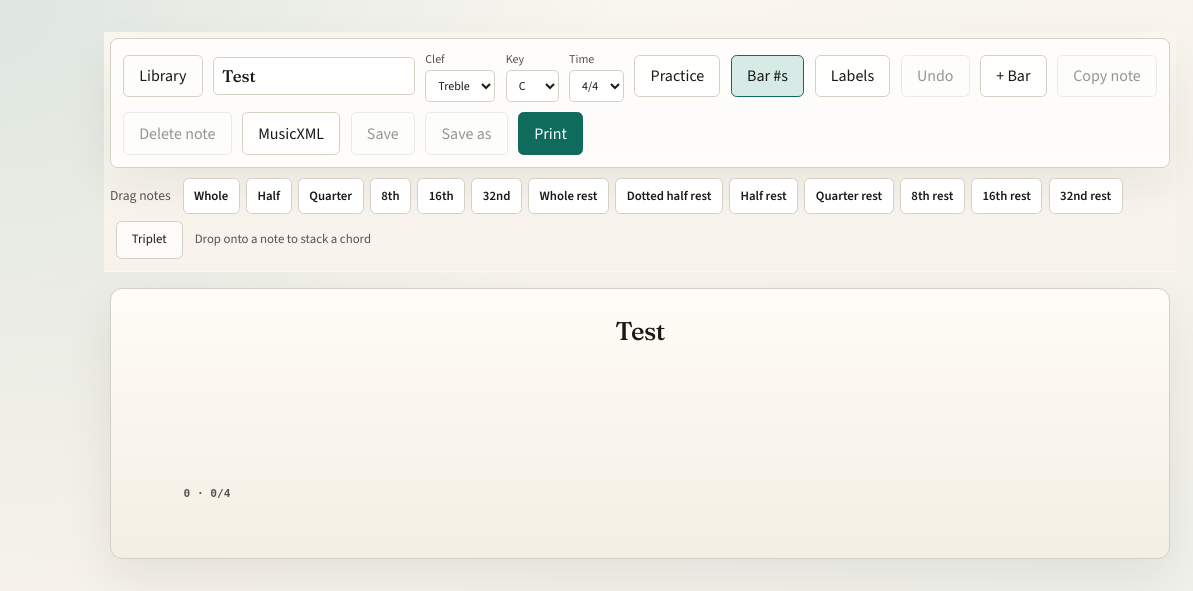
Editor practice + dirty state › undo › undoes a run of title keystrokes as one step
Replace the text in the field named "Score title" with "Te". click: (314, 76)
box: x1=213 y1=57 x2=415 y2=95
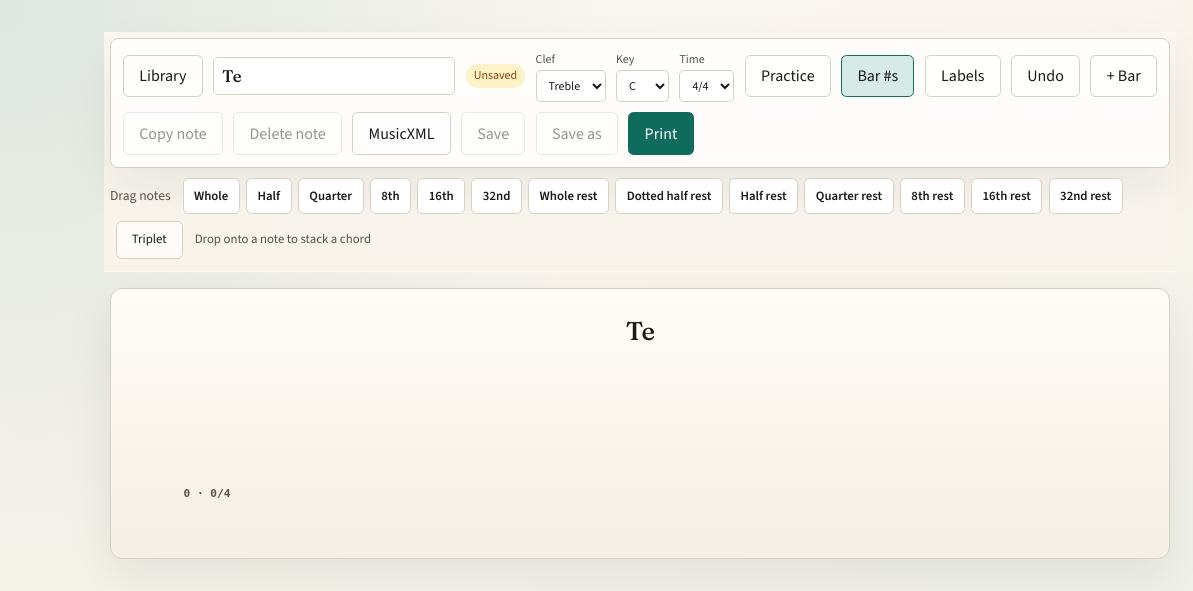
Replace the text in the field named "Score title" with "Tem". click: (334, 76)
box: x1=213 y1=57 x2=455 y2=95
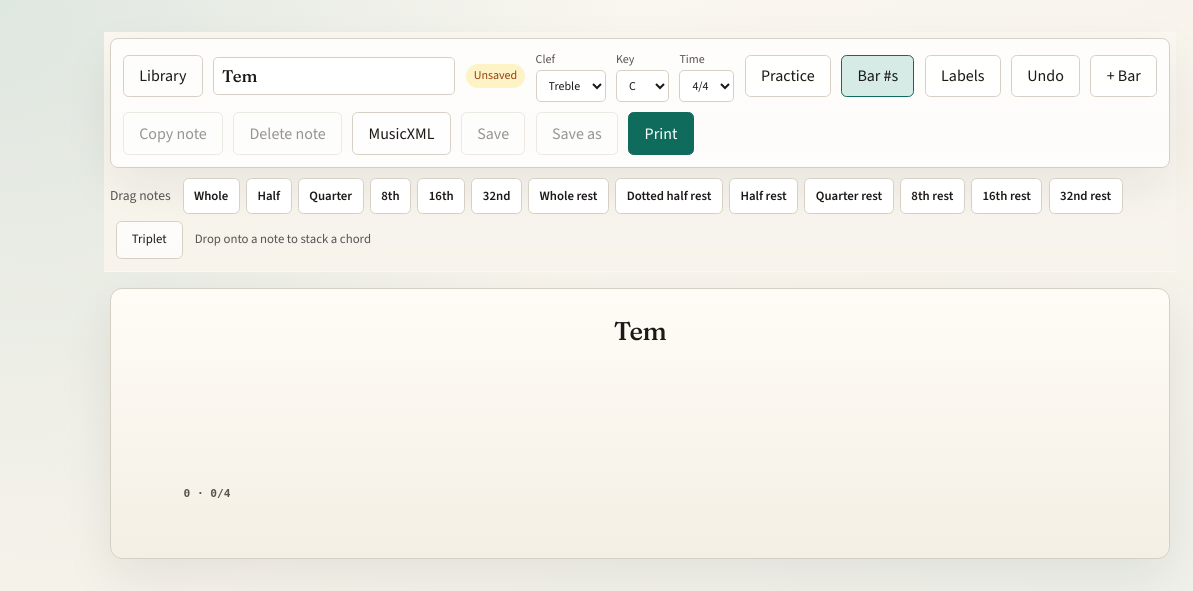
Replace the text in the field named "Score title" with "Temp". click: (334, 76)
box: x1=213 y1=57 x2=455 y2=95
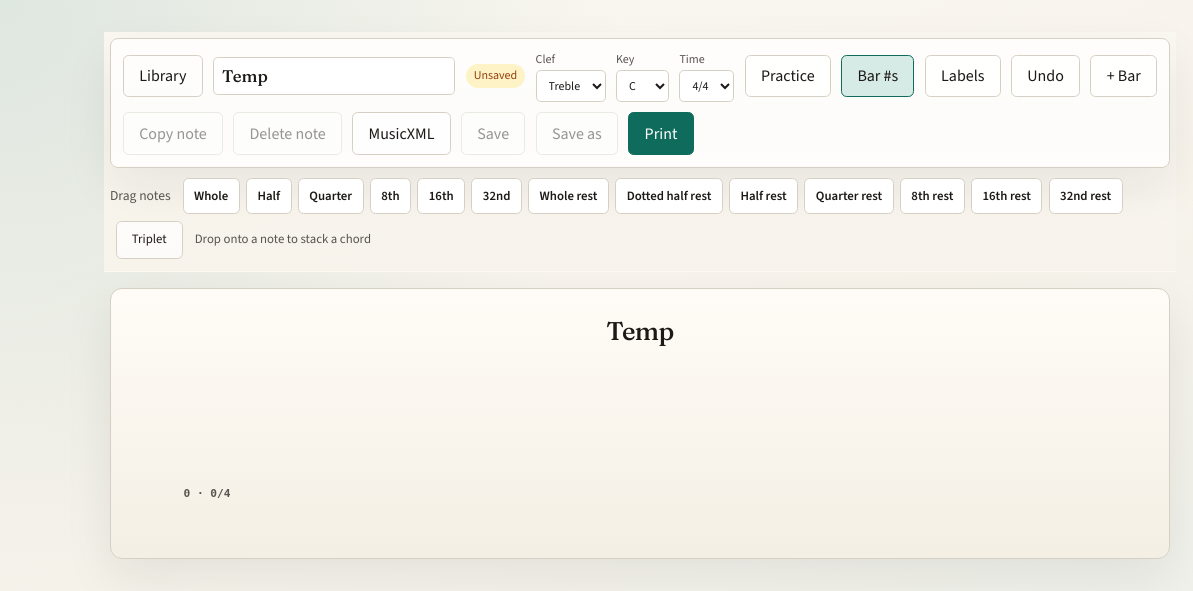
Click the button with test id "undo". click: (1046, 76)
box: x1=1011 y1=55 x2=1080 y2=98
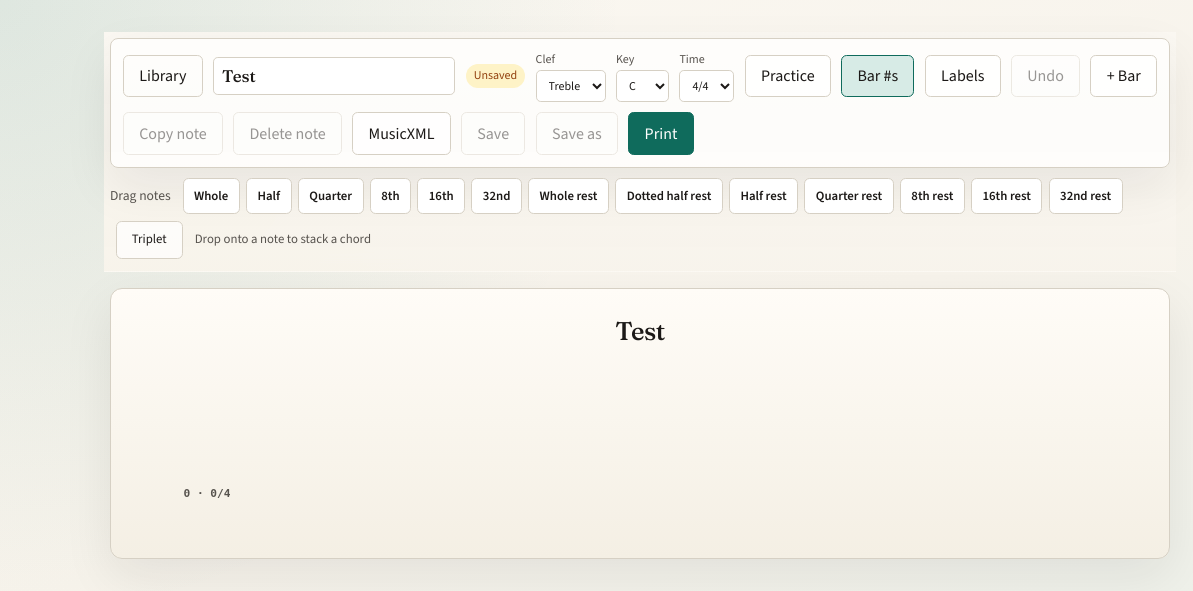
Expected: the field named "Score title" holds "Test", x1=213 y1=57 x2=455 y2=95
Expected: the button with test id "undo" is disabled, x1=1011 y1=55 x2=1080 y2=98
